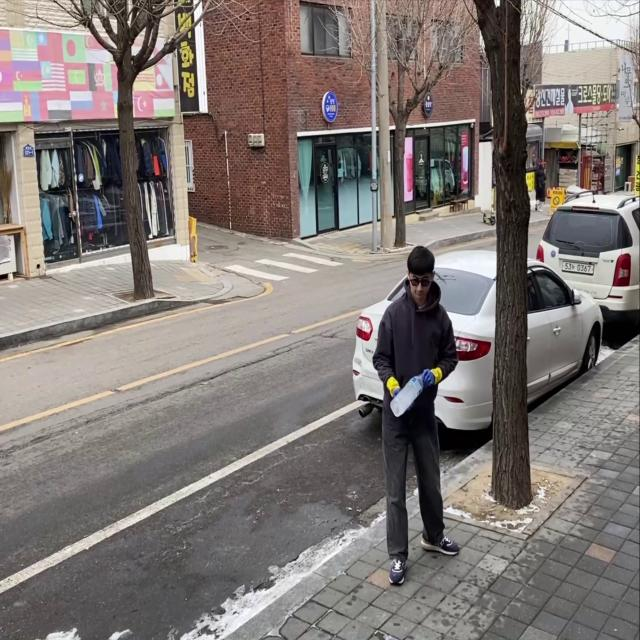gloved_hand: (418, 368, 436, 394)
